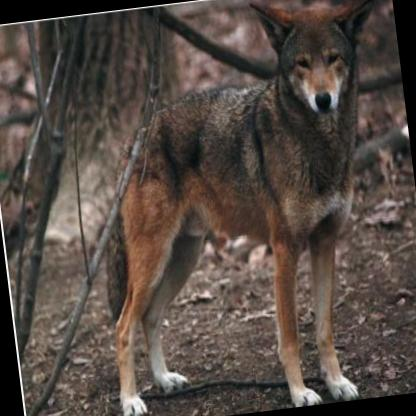dhole: (70, 0, 416, 416)
